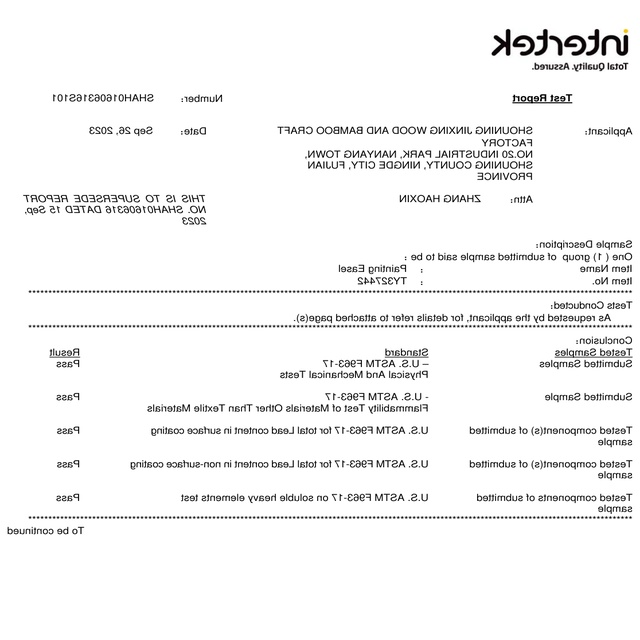intertek: (487, 22, 633, 62)
